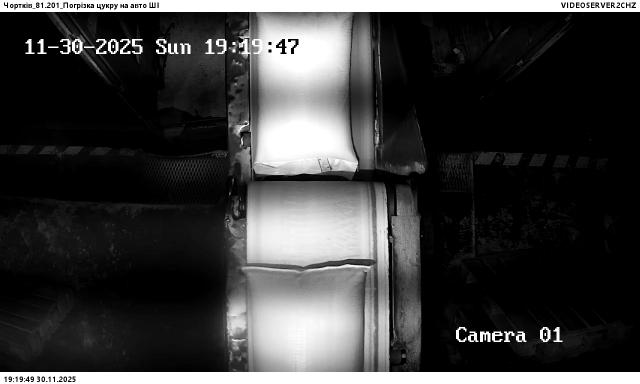bag: (254, 13, 360, 175), (242, 266, 370, 373)
